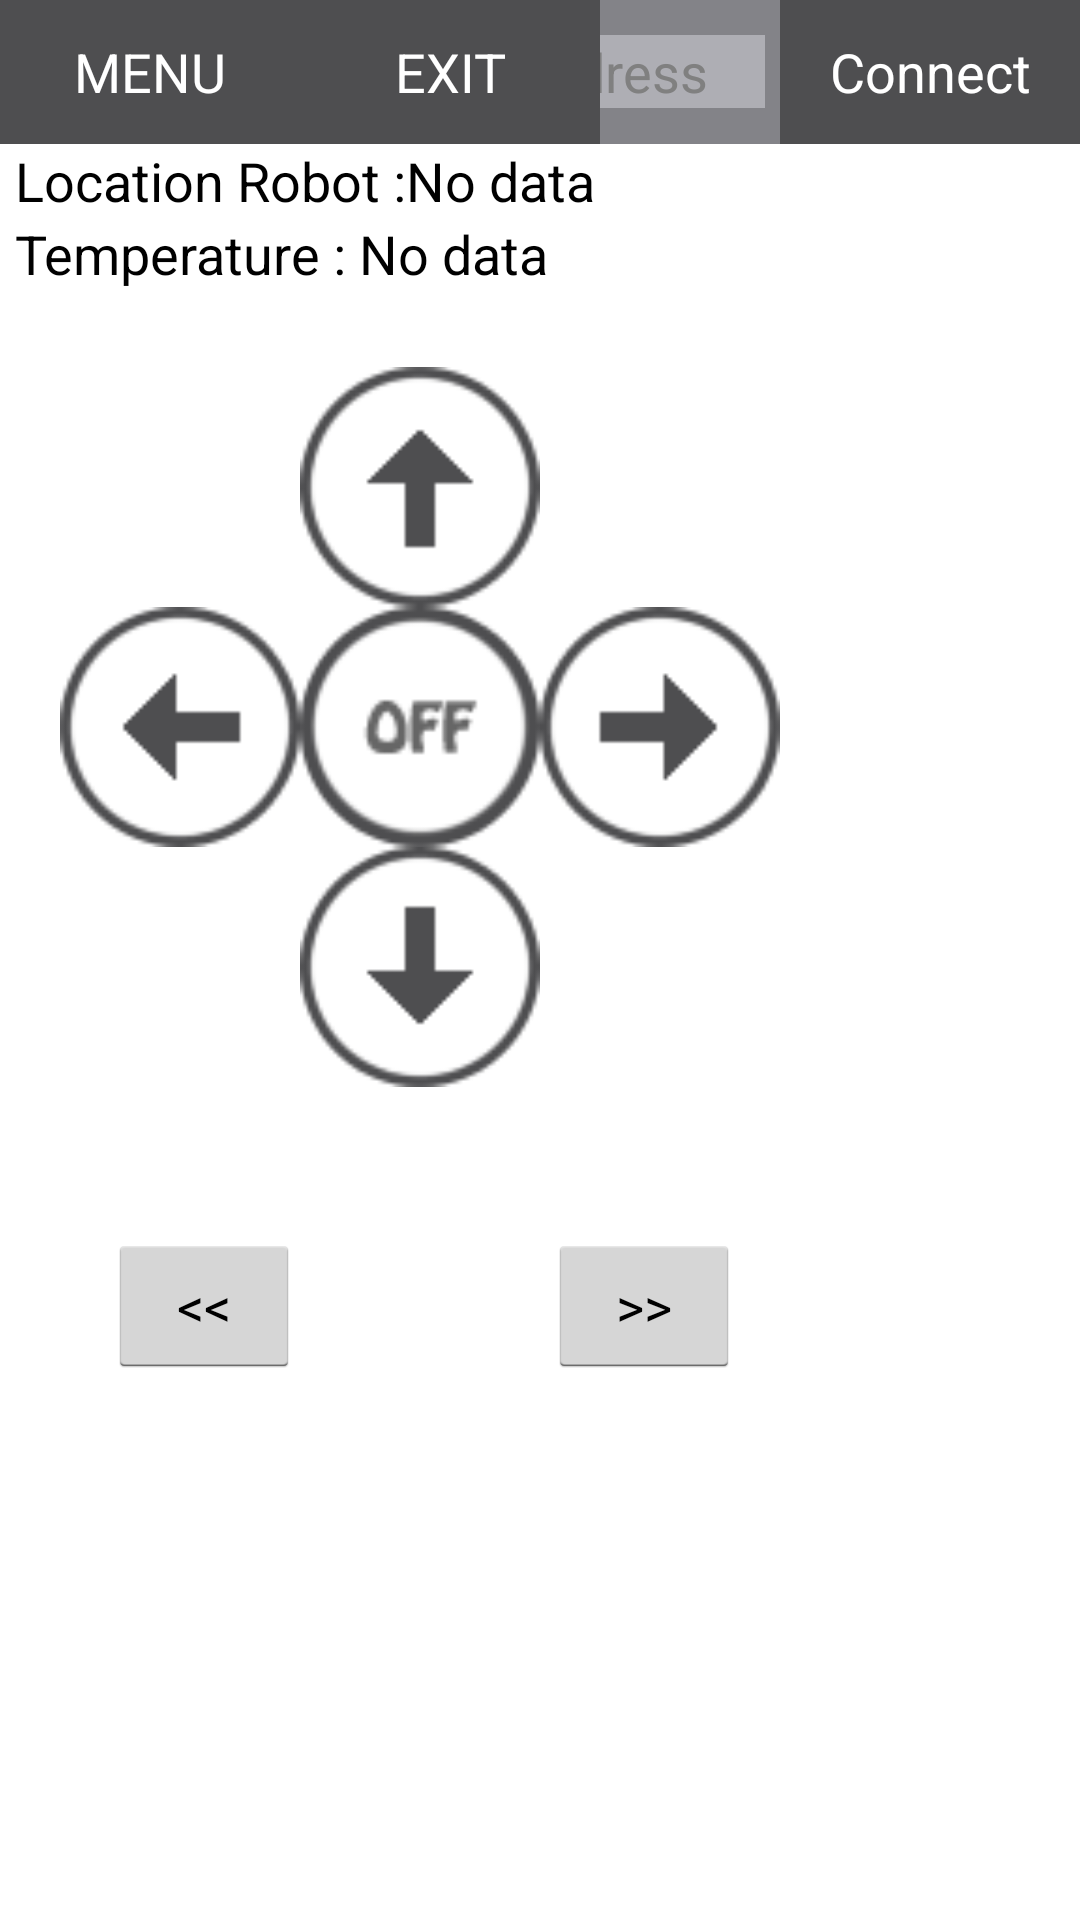

Icon click points for this 1080px×1920px phone screenshot, format point (x, y):
backward off: point (420, 967)
forward off: point (420, 487)
left off: point (180, 727)
right off: point (660, 727)
